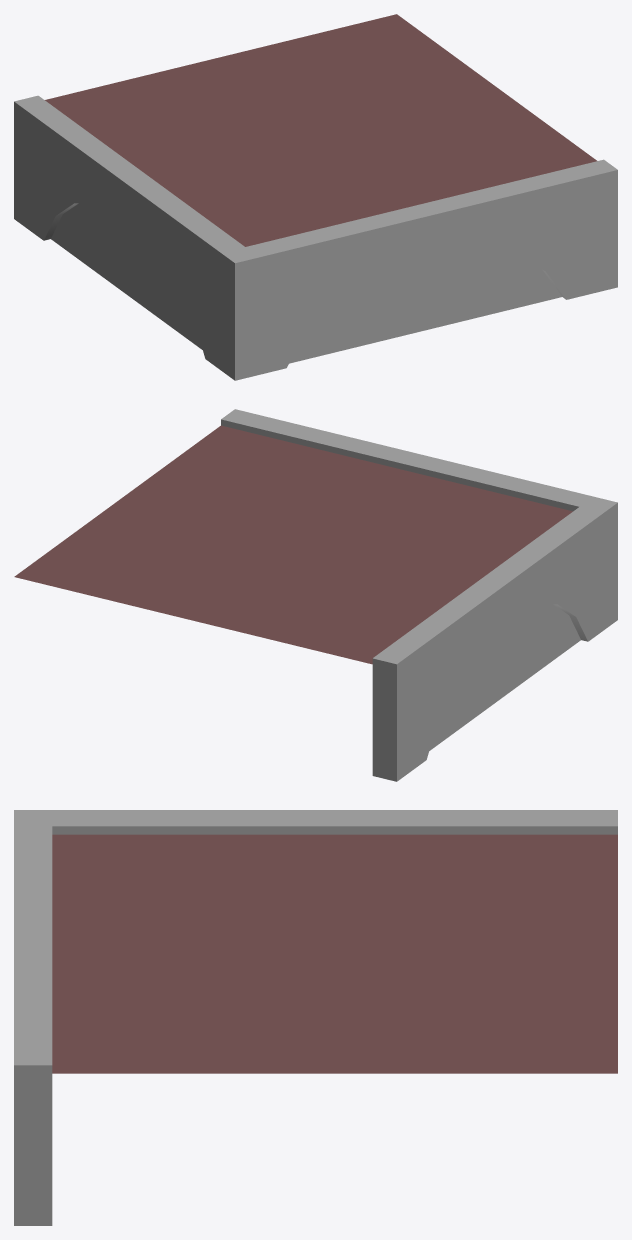
Rendered from celling_corner_02.fbx.
3 renders of one model, top to bottom at view 1: azimuth 30°, elevation 25°; view 2: azimuth 150°, elevation 25°; view 3: azimuth 270°, elevation 25°, orthographic. The views are drawn at different scales.
Parts seen in each view (by area): view 1: polySurface11, ceilling_wall_05, ceilling_wall_04, building_pillar14, building_pillar15, building_pillar13; view 2: polySurface11, ceilling_wall_04, ceilling_wall_05, building_pillar13, building_pillar14, building_pillar15; view 3: polySurface11, ceilling_wall_04, ceilling_wall_05, building_pillar15, building_pillar13, building_pillar14.
Boxes of the visible parts, bbox=[...] form: polySurface11: bbox=[45, 14, 596, 246]; ceilling_wall_05: bbox=[246, 165, 593, 374]; ceilling_wall_04: bbox=[28, 106, 244, 370]; building_pillar14: bbox=[221, 247, 259, 380]; building_pillar15: bbox=[580, 159, 617, 292]; building_pillar13: bbox=[14, 95, 51, 228]; polySurface11: bbox=[14, 425, 572, 664]; ceilling_wall_04: bbox=[387, 507, 603, 771]; ceilling_wall_05: bbox=[245, 415, 593, 511]; building_pillar13: bbox=[372, 648, 410, 781]; building_pillar14: bbox=[580, 496, 617, 629]; building_pillar15: bbox=[221, 409, 258, 431]; polySurface11: bbox=[52, 834, 617, 1073]; ceilling_wall_04: bbox=[52, 810, 579, 834]; ceilling_wall_05: bbox=[14, 826, 52, 1048]; building_pillar15: bbox=[14, 1049, 52, 1225]; building_pillar13: bbox=[579, 810, 617, 834]; building_pillar14: bbox=[14, 810, 52, 826].
Bounding box in the file's own units: 1 × 0.2933 × 1.
